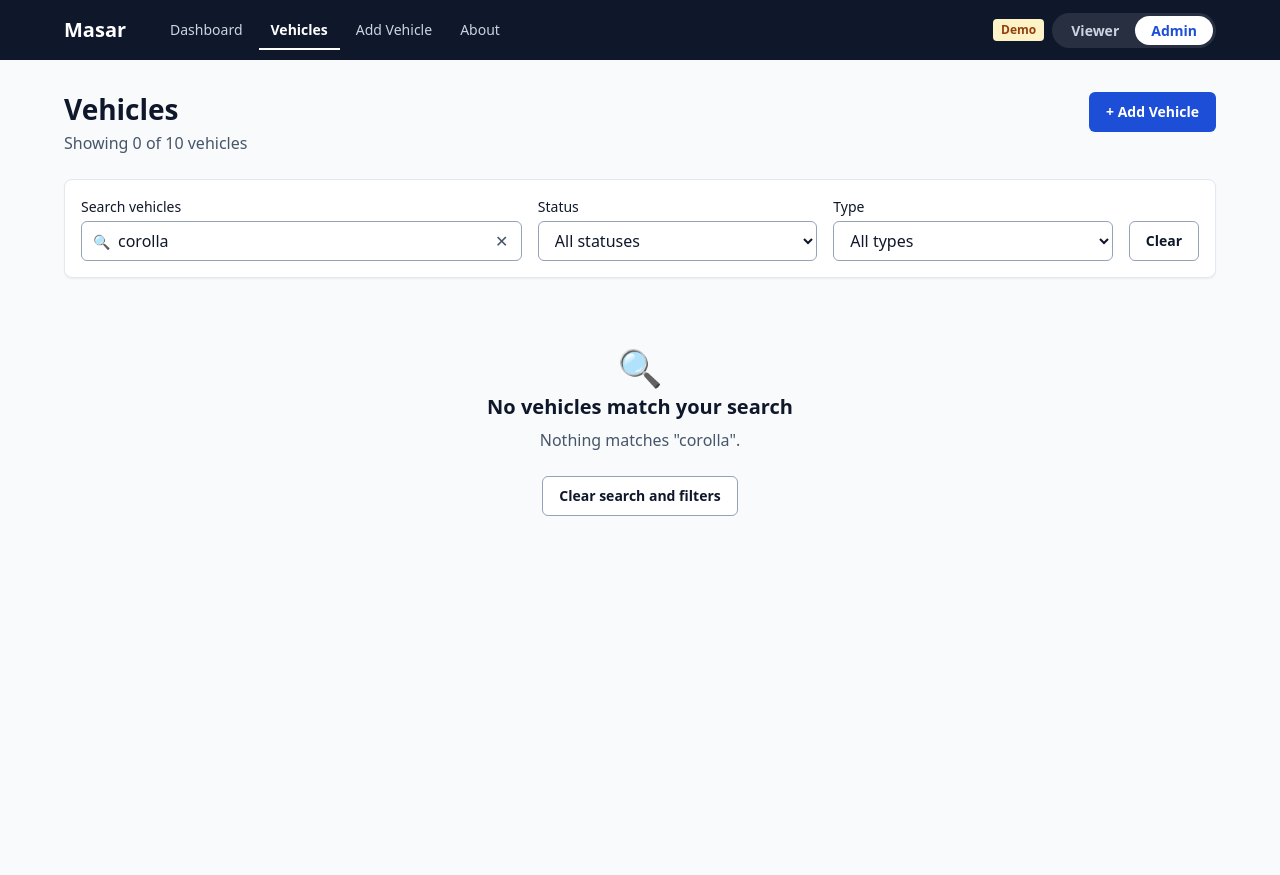
it: Vehicle list: search and filter (US-7) › shows an empty state when nothing matches (AC-7.5)
The image size is (1280, 875).
Expected: the heading "No vehicles match your search" is shown, [487,394,793,420]
Expected: the text "Nothing matches \"corolla\"." is shown, [540,428,740,452]
Click the button "Clear search and filters": (640, 496) [542,476,738,516]
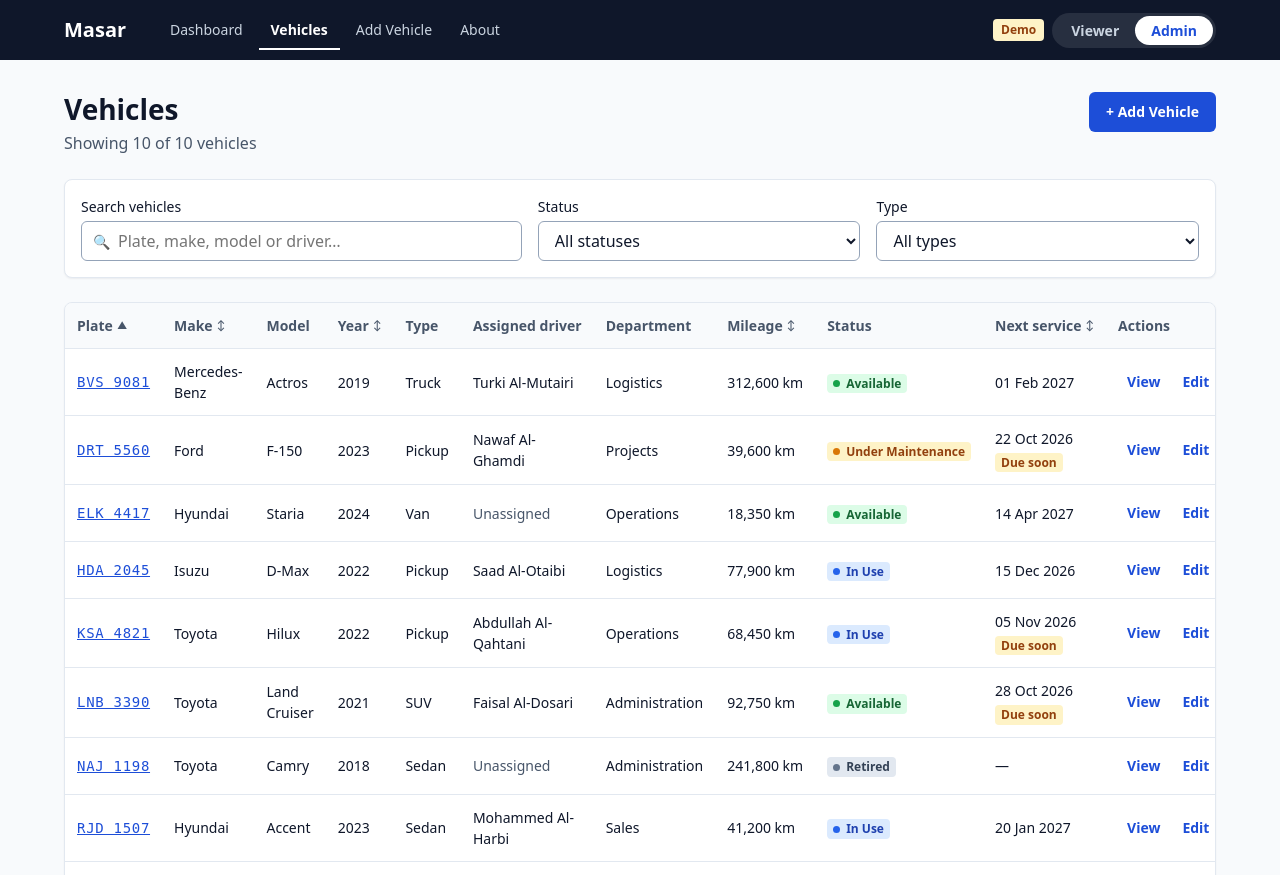
Expected: the text "Showing 10 of 10 vehicles" is shown, [64,131,257,155]
